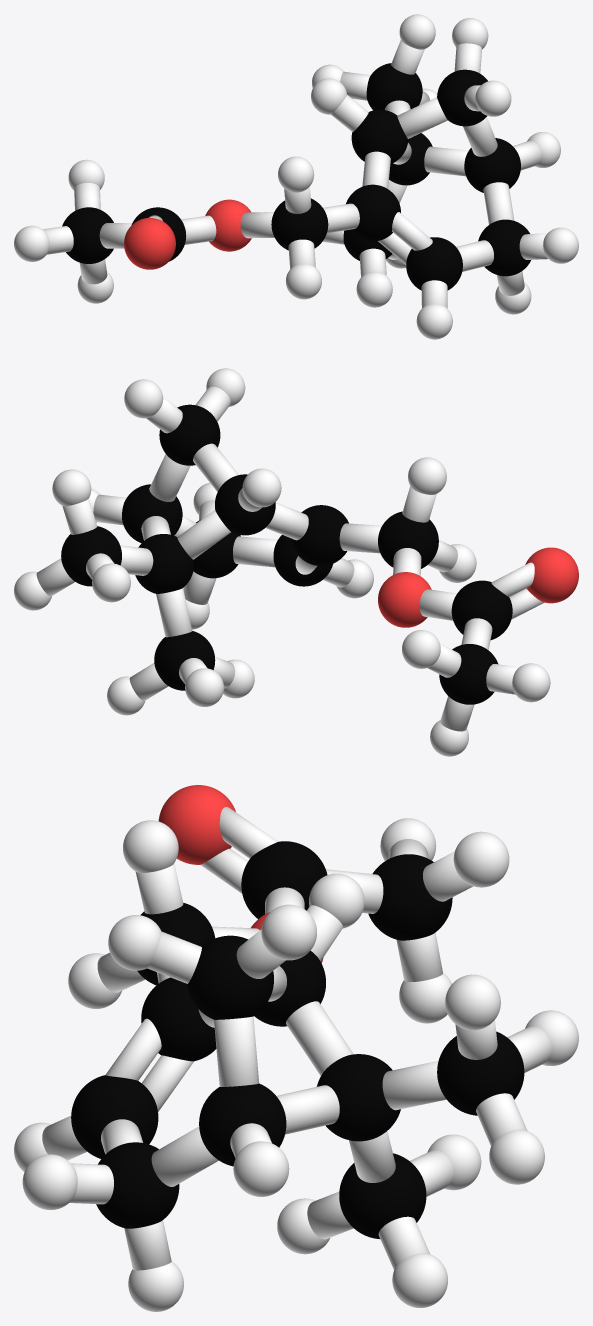
3 renders of one model, top to bottom at view 1: azimuth 30°, elevation 25°; view 2: azimuth 150°, elevation 25°; view 3: azimuth 270°, elevation 25°, orthographic. The views are drawn at different scales.
Parts seen in each view (by area): view 1: molecule; view 2: molecule; view 3: molecule.
Part boxes in pixels (x1,y1,x2,y2): molecule: (14, 14, 578, 339); molecule: (14, 368, 578, 756); molecule: (14, 785, 578, 1311).
Bounding box in the file's own units: 9.45 × 4.97 × 6.08.
